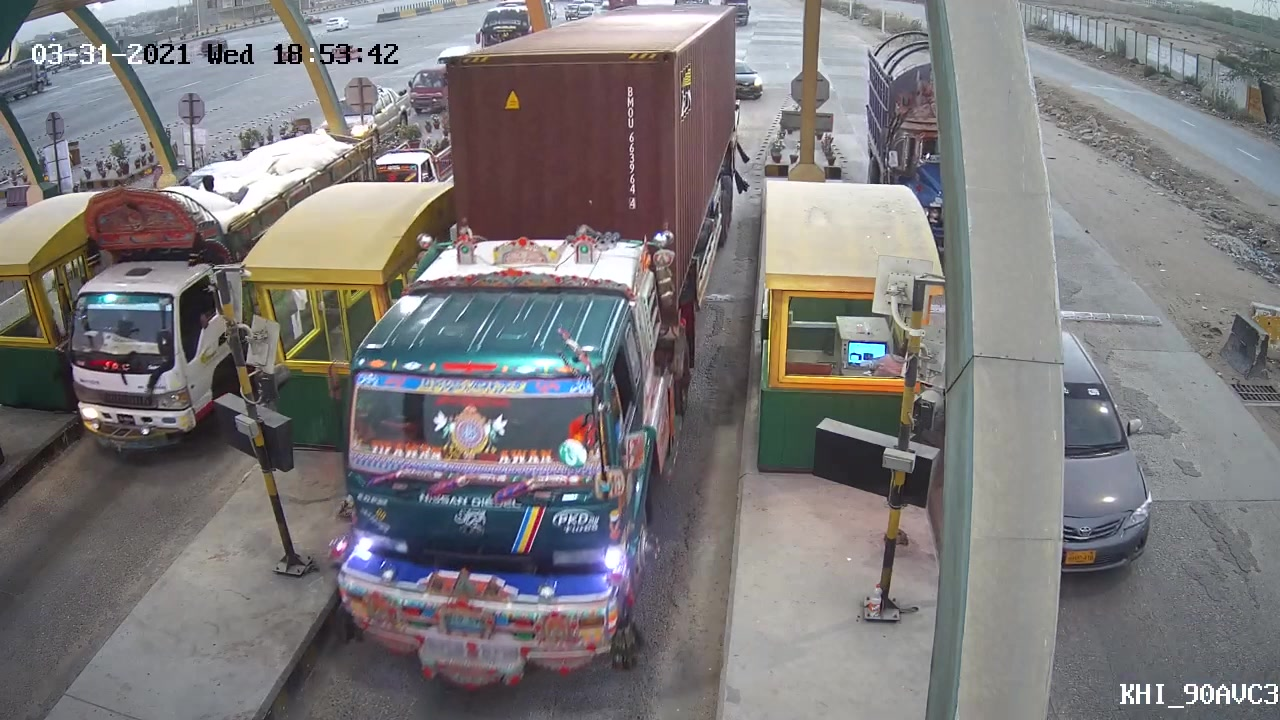F6: (315, 1, 748, 698)
